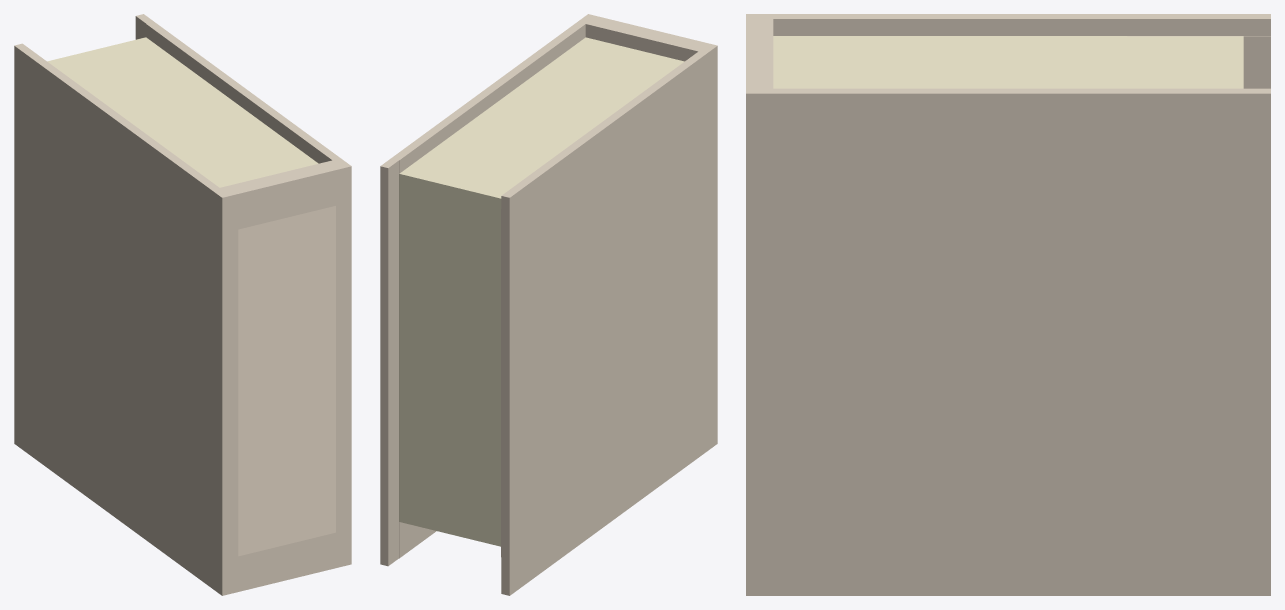
The model's file is book_2.fbx.
The picture shows the model from 3 angles, left to right: view 1: azimuth 30°, elevation 25°; view 2: azimuth 150°, elevation 25°; view 3: azimuth 270°, elevation 25°; orthographic projection. The views are drawn at different scales.
Parts seen in each view (by area): view 1: Boole_1; view 2: Boole_1; view 3: Boole_1.
Boxes of the visible parts, x1=… form: Boole_1: x1=14, y1=14, x2=351, y2=595; Boole_1: x1=380, y1=14, x2=717, y2=595; Boole_1: x1=746, y1=14, x2=1270, y2=595.
Size of the model in its own units: 3.16 by 9.27 by 8.78.
